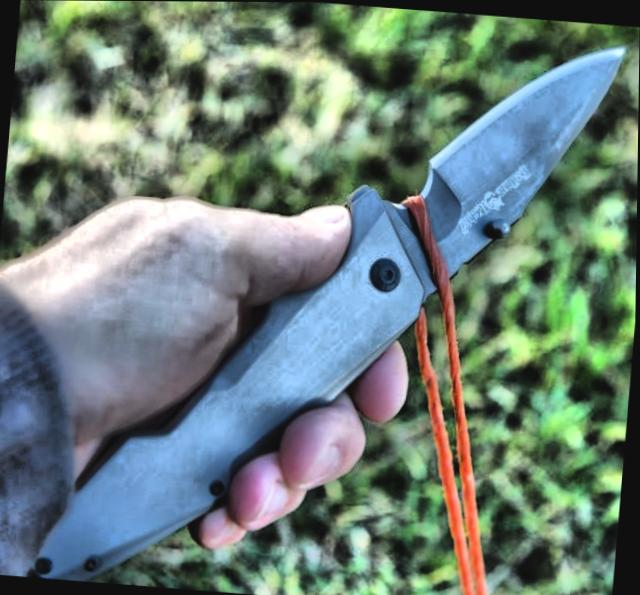knife: (288, 14, 636, 307)
